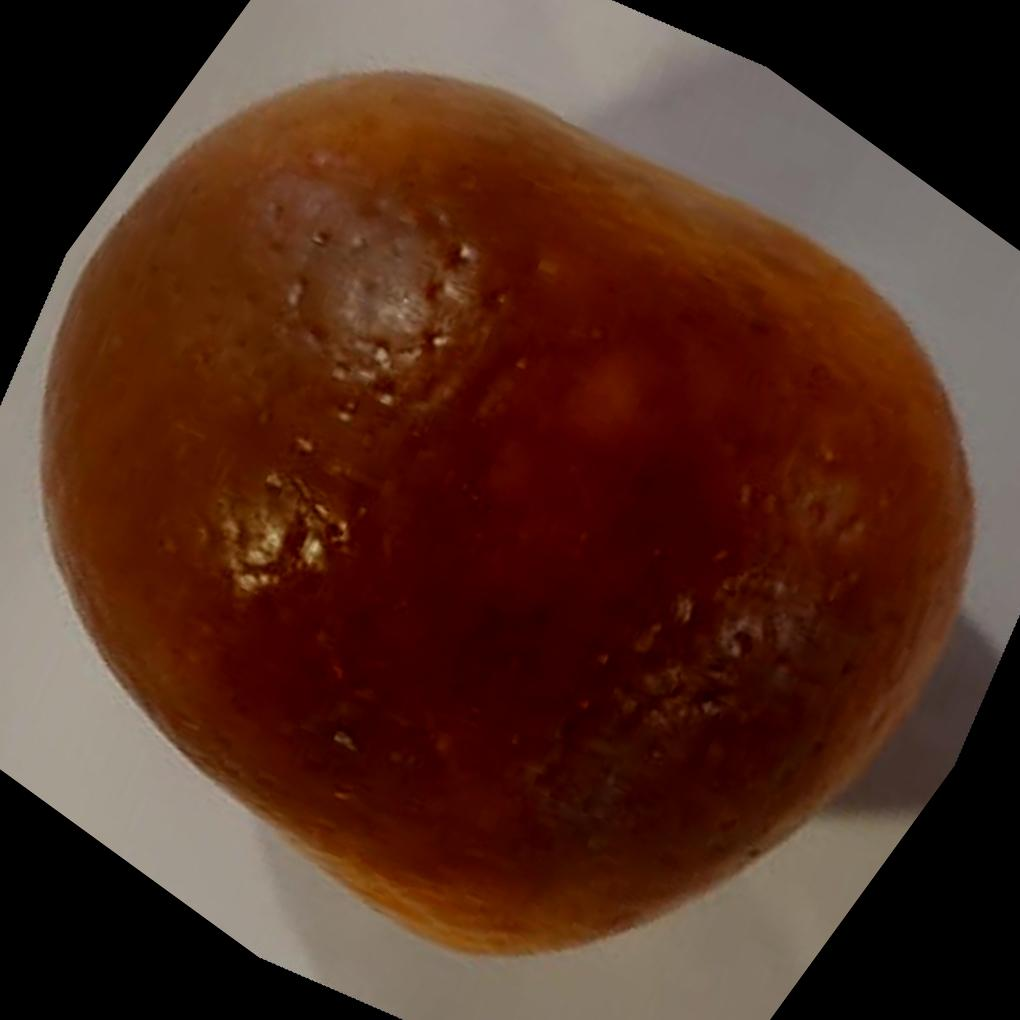FreshOrange: (38, 69, 981, 961)
